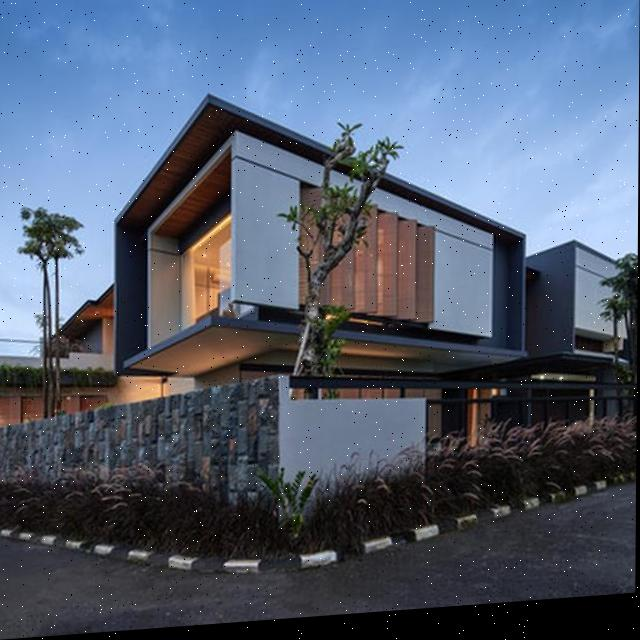building: (0, 58, 639, 423)
